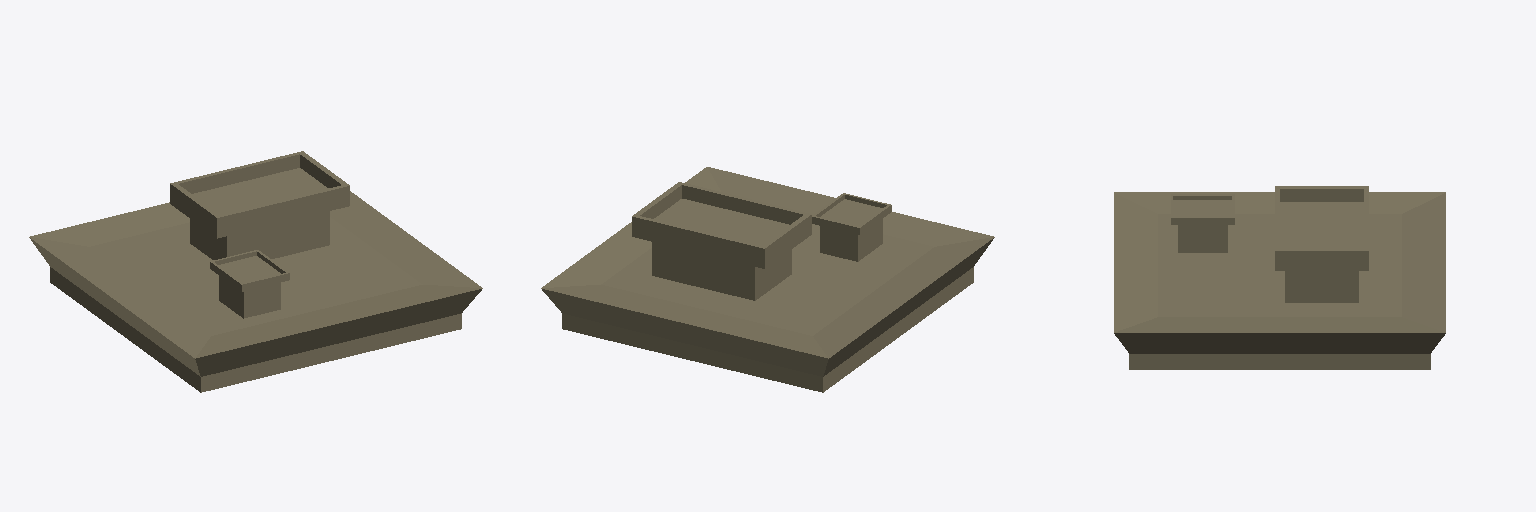
File: apartment_roof.obj
3 views of the same model, side by side, from view 1: azimuth 30°, elevation 25°; view 2: azimuth 150°, elevation 25°; view 3: azimuth 270°, elevation 25° (orthographic).
Parts seen in each view (by area): view 1: pCube15; view 2: pCube15; view 3: pCube15.
Boxes of the visible parts, x1=… form: pCube15: x1=29, y1=151, x2=482, y2=392; pCube15: x1=541, y1=167, x2=994, y2=392; pCube15: x1=1114, y1=186, x2=1445, y2=369.
Bounding box in the file's own units: 1.27 × 0.4203 × 1.27.